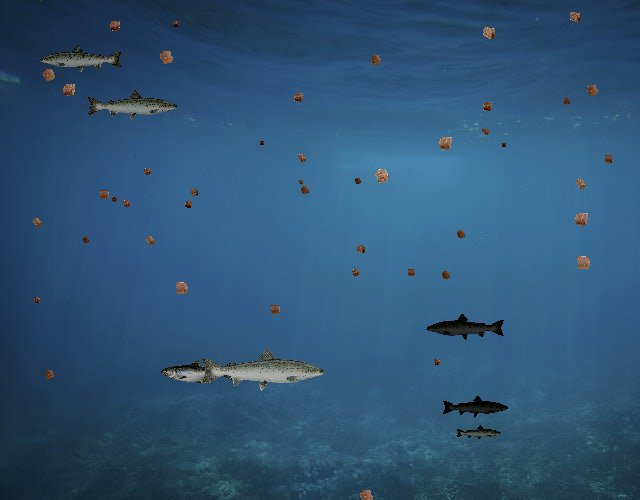Fish: (198, 346, 327, 392), (86, 88, 180, 122), (38, 43, 124, 74), (426, 313, 507, 342), (161, 360, 234, 386), (442, 394, 510, 418), (455, 425, 502, 442)
Pellet: (431, 129, 460, 158), (567, 206, 595, 234), (475, 20, 502, 47), (580, 78, 604, 102), (288, 87, 309, 108), (451, 225, 470, 244), (347, 264, 364, 281), (30, 293, 44, 307)
